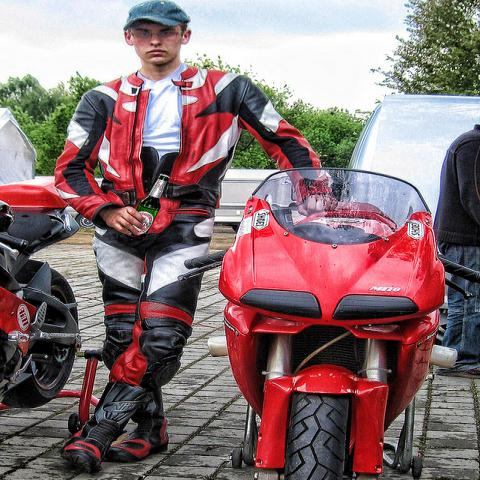car: (345, 96, 479, 220), (214, 168, 278, 232)
motorcycle: (177, 168, 479, 476), (0, 174, 82, 411)
